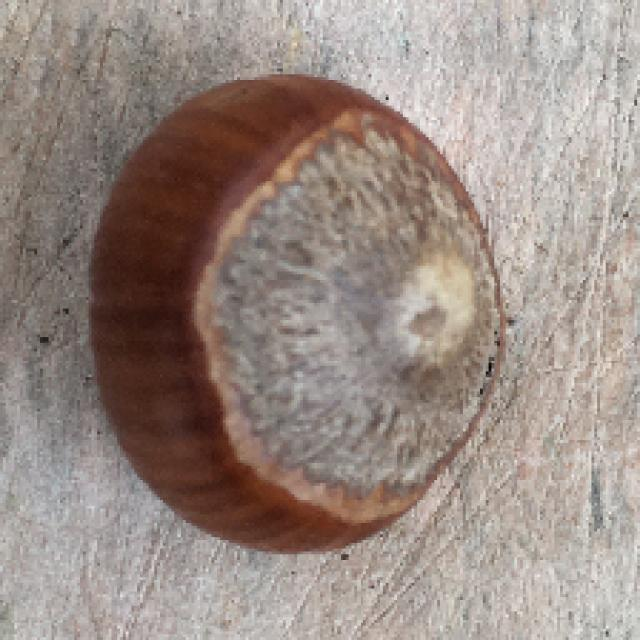damagedHazelnut: (84, 66, 509, 556)
